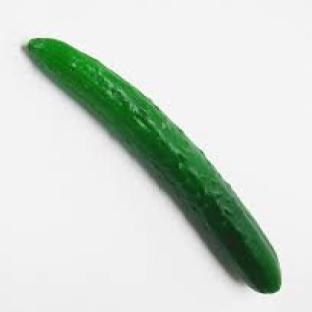Cucumber: (28, 40, 281, 293)
